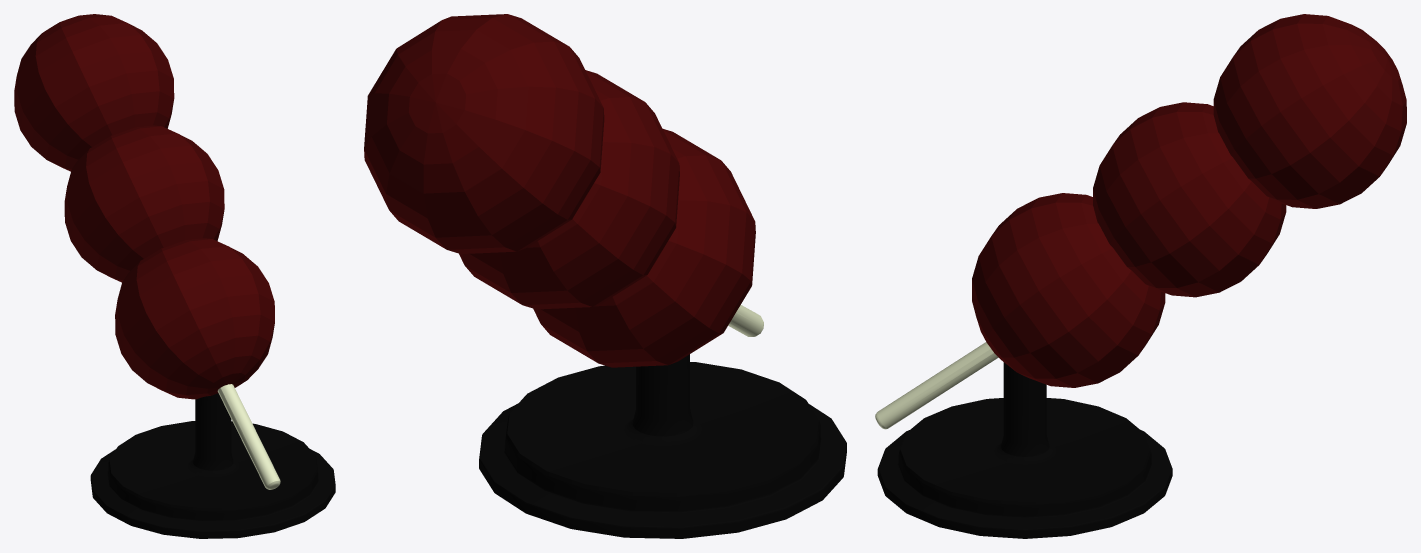
The model's file is Boulette.fbx.
The picture shows the model from 3 angles, left to right: view 1: azimuth 30°, elevation 25°; view 2: azimuth 150°, elevation 25°; view 3: azimuth 270°, elevation 25°; orthographic projection. The views are drawn at different scales.
Visible parts, largest first — view 1: Boules, Socle_pomme; view 2: Boules, Socle_pomme; view 3: Boules, Socle_pomme.
Part boxes in pixels (left/top/right/bottom): Boules: left=14, top=14, right=280, bottom=489; Socle_pomme: left=90, top=393, right=335, bottom=538; Boules: left=364, top=14, right=763, bottom=367; Socle_pomme: left=479, top=354, right=846, bottom=538; Boules: left=875, top=14, right=1406, bottom=429; Socle_pomme: left=877, top=362, right=1172, bottom=538.
Size of the model in its own units: 200 by 339 by 361.
